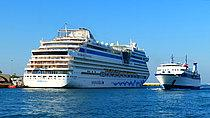Ship: (24, 21, 152, 93), (155, 52, 205, 91)
